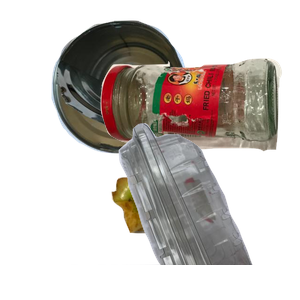glass: (98, 56, 300, 201)
metal: (49, 18, 229, 164)
plastic: (71, 120, 300, 300)
trash: (109, 175, 279, 300)
